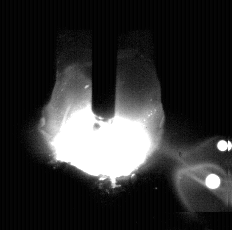arame: (93, 0, 117, 121)
poca: (37, 0, 163, 230)
